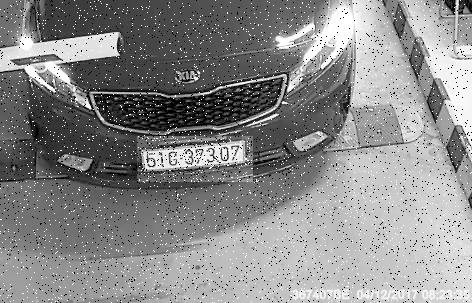License-plate: (138, 138, 254, 185)
